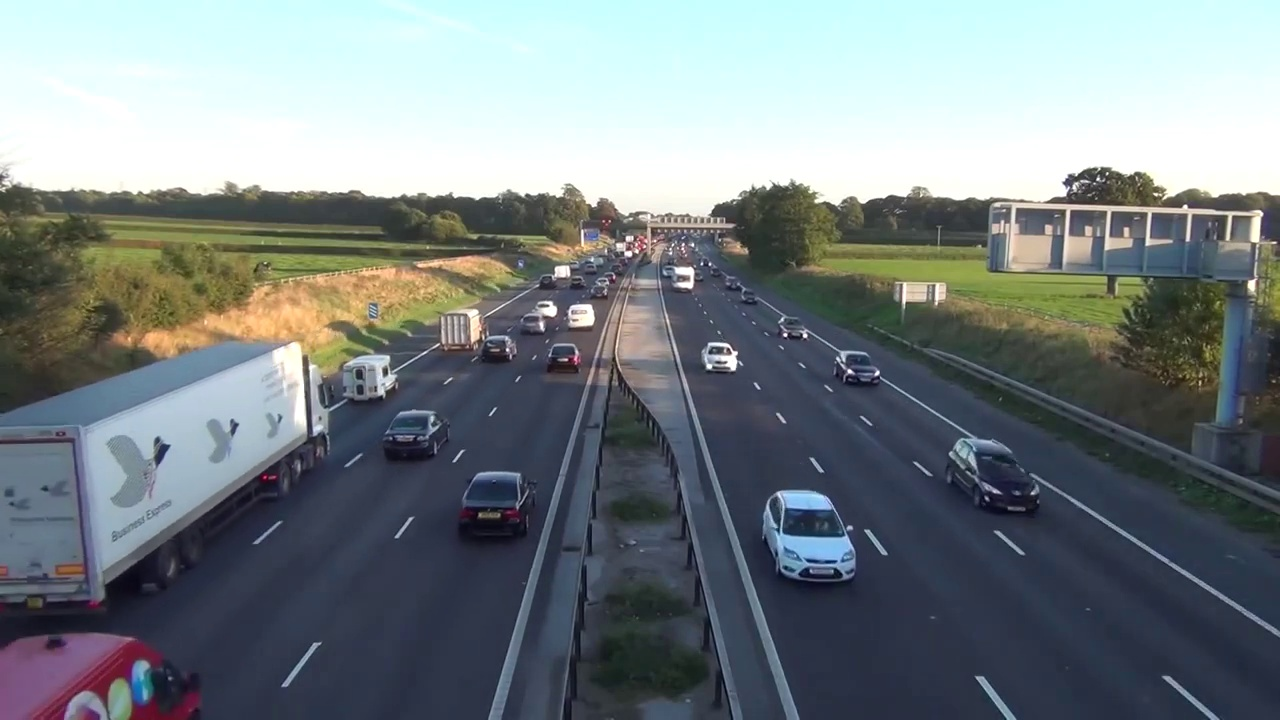bus: (760, 490, 855, 582), (945, 436, 1043, 518), (460, 470, 539, 538), (382, 409, 453, 460), (833, 349, 882, 386), (701, 341, 738, 373), (546, 342, 583, 373), (478, 334, 518, 362), (777, 315, 809, 341), (565, 304, 595, 329), (520, 314, 546, 336), (533, 301, 559, 320)
car: (0, 342, 335, 614)
lorry: (340, 355, 399, 401), (440, 310, 489, 353)
minibus: (0, 631, 205, 720)
